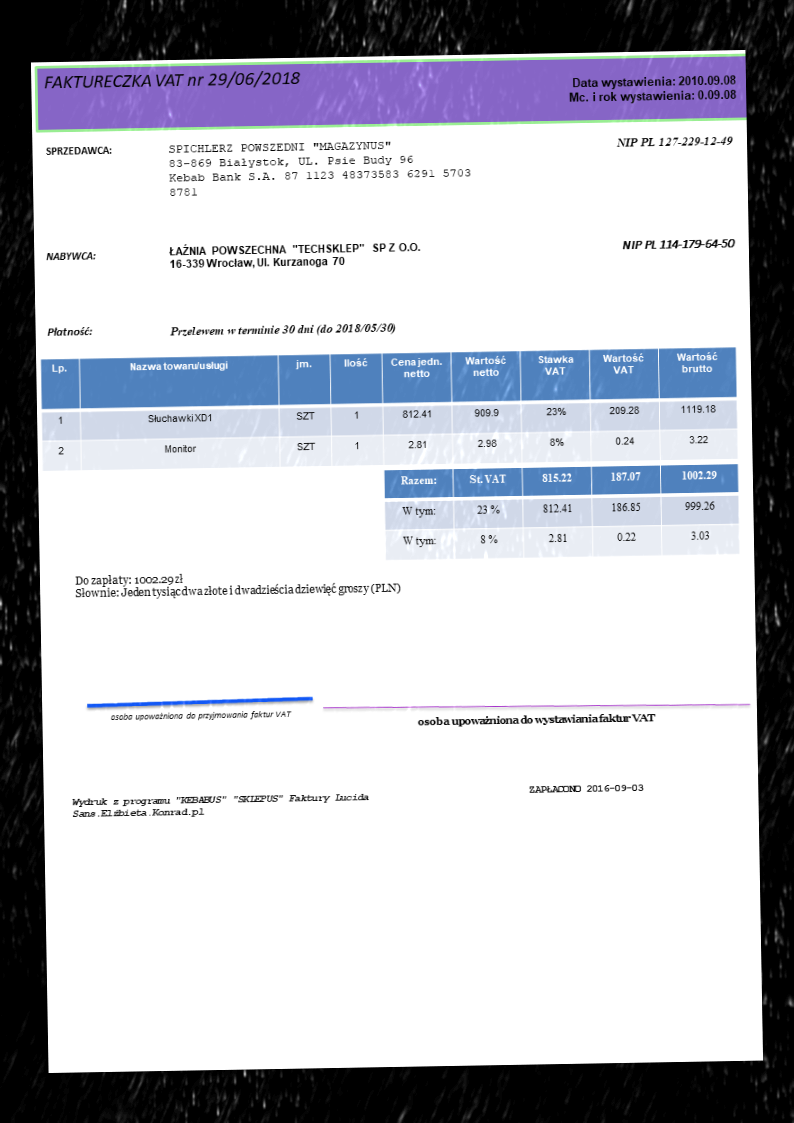Table: (38, 345, 740, 473), (383, 462, 741, 561)
TextBox: (166, 136, 473, 199), (72, 567, 402, 602), (70, 789, 371, 820), (167, 237, 422, 271), (42, 68, 302, 93), (566, 72, 738, 105), (167, 320, 398, 341), (416, 709, 657, 729), (107, 708, 293, 724), (615, 133, 735, 150), (620, 236, 738, 252), (527, 781, 645, 796), (43, 143, 114, 158), (42, 249, 99, 263), (45, 323, 94, 339)
